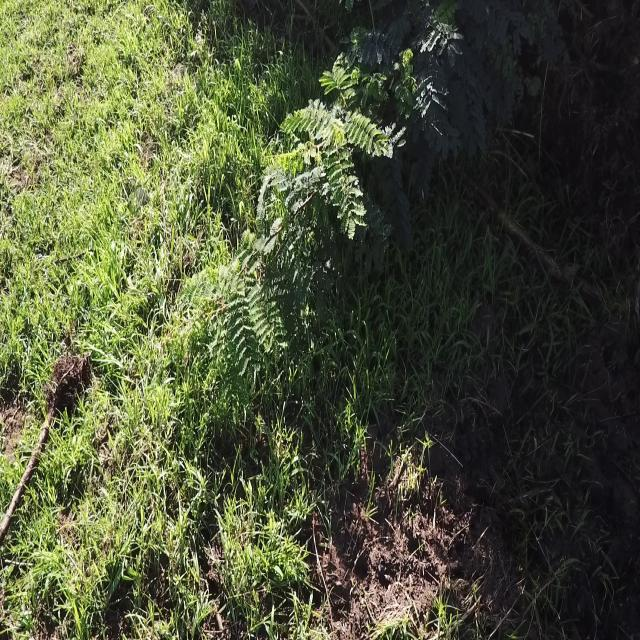Mysore-Thorn-Weed: (181, 0, 562, 418)
